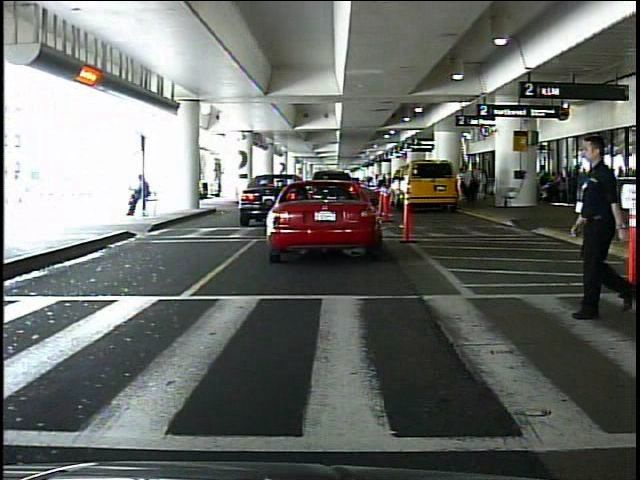person: (576, 138, 635, 321)
